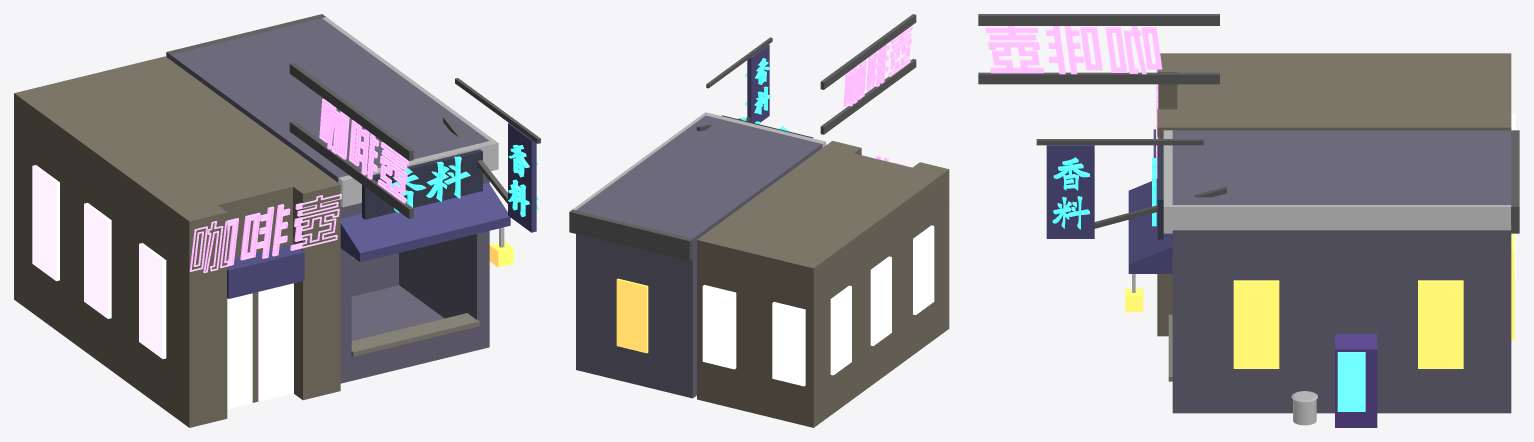
3 views of the same model, side by side, from view 1: azimuth 30°, elevation 25°; view 2: azimuth 150°, elevation 25°; view 3: azimuth 270°, elevation 25° (orthographic). The views are drawn at different scales.
Parts seen in each view (by area): view 1: Cube.028, Cube.001, Cube.002, Text.001, Cube.019, Text.003, Cube.016, Cube.020, Cube.023, Cube.024, Cube.022, Cube.021 (+12 smaller); view 2: Cube.028, Cube.001, Cube.012, Cube.026, Cube.025, Cube.013, Text.003, Cube.022, Cube.023, Cube.024, Cube.030, Cube.027 (+5 smaller); view 3: Cube.001, Cube.028, Cube.010, Text.003, Cube.008, Cube.009, Cube.030, Cube.029, Cube.002, Cube.027, Cube.014, Cube.015 (+7 smaller).
Boxes of the visible parts, left/top/right/bottom form: Cube.028: left=14, top=56, right=340, bottom=427; Cube.001: left=171, top=18, right=489, bottom=383; Cube.002: left=340, top=183, right=510, bottom=262; Text.001: left=189, top=193, right=341, bottom=273; Cube.019: left=258, top=283, right=293, bottom=401; Text.003: left=319, top=98, right=408, bottom=203; Cube.016: left=362, top=149, right=482, bottom=219; Cube.020: left=227, top=293, right=252, bottom=409; Cube.023: left=32, top=165, right=59, bottom=281; Cube.024: left=84, top=202, right=111, bottom=318; Cube.022: left=139, top=243, right=166, bottom=358; Cube.021: left=227, top=243, right=304, bottom=298; Cube.028: left=697, top=141, right=949, bottom=427; Cube.001: left=576, top=115, right=822, bottom=398; Cube.012: left=569, top=209, right=692, bottom=261; Cube.026: left=702, top=285, right=736, bottom=369; Cube.025: left=772, top=302, right=805, bottom=386; Cube.013: left=616, top=278, right=648, bottom=353; Text.003: left=843, top=26, right=912, bottom=107; Cube.022: left=913, top=225, right=934, bottom=314; Cube.023: left=830, top=285, right=851, bottom=375; Cube.024: left=870, top=256, right=891, bottom=346; Cube.030: left=747, top=44, right=769, bottom=122; Cube.027: left=820, top=14, right=916, bottom=89; Cube.001: left=1172, top=130, right=1511, bottom=413; Cube.028: left=1157, top=53, right=1511, bottom=336; Cube.010: left=1172, top=205, right=1511, bottom=230; Text.003: left=985, top=26, right=1162, bottom=74; Cube.008: left=1233, top=280, right=1279, bottom=368; Cube.009: left=1418, top=280, right=1463, bottom=368; Cube.030: left=1046, top=145, right=1094, bottom=238; Cube.029: left=978, top=72, right=1219, bottom=84; Cube.002: left=1128, top=179, right=1172, bottom=273; Cube.027: left=978, top=14, right=1219, bottom=25; Cube.014: left=1335, top=334, right=1377, bottom=427; Cube.015: left=1337, top=352, right=1365, bottom=411.
Bounding box in the file's own units: 14.16 × 12.13 × 19.06.
